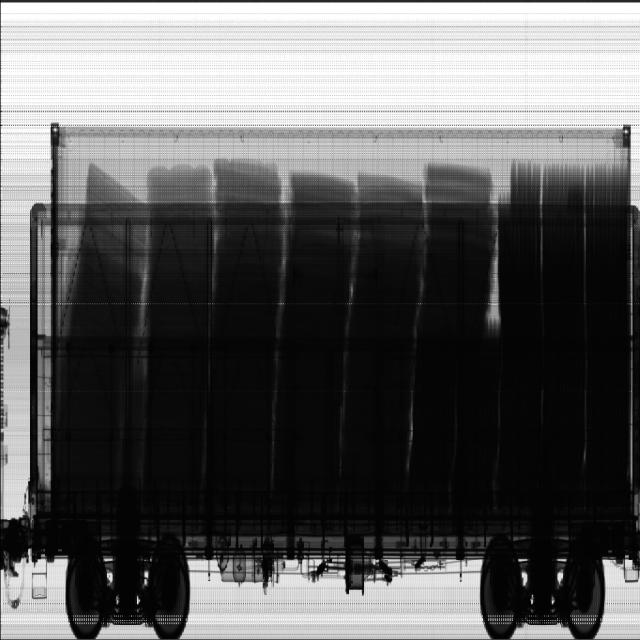fabrics: (59, 159, 495, 321)
